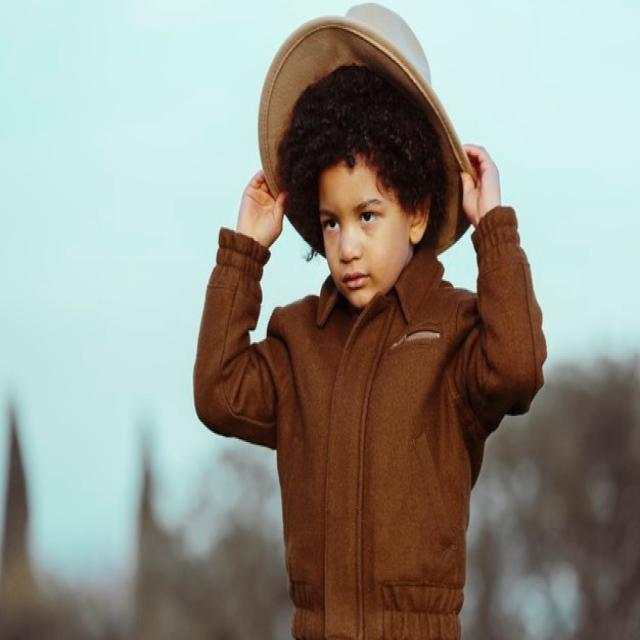hat: (255, 5, 480, 310)
